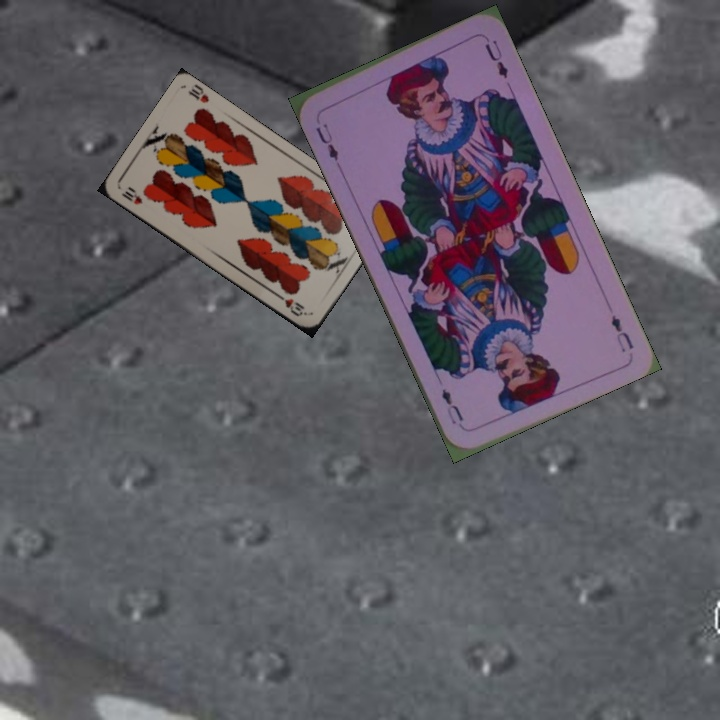EU: (311, 119, 342, 164), (607, 311, 637, 355)
H10: (118, 183, 145, 207)
